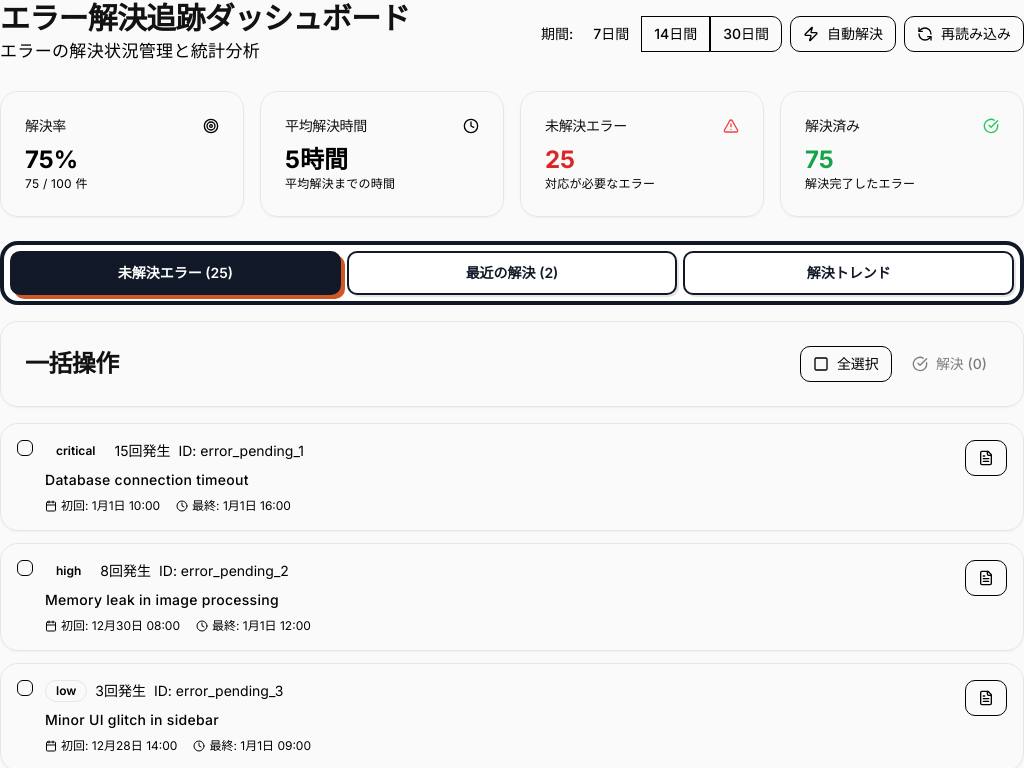
Scenario: ErrorResolutionDashboard › エラー解決機能テスト › エラー解決ダイアログが開くこと
This screenshot has width=1024, height=768.
Step 1. Click the button labelled "全選択" → (846, 364), box [800,346,892,382]
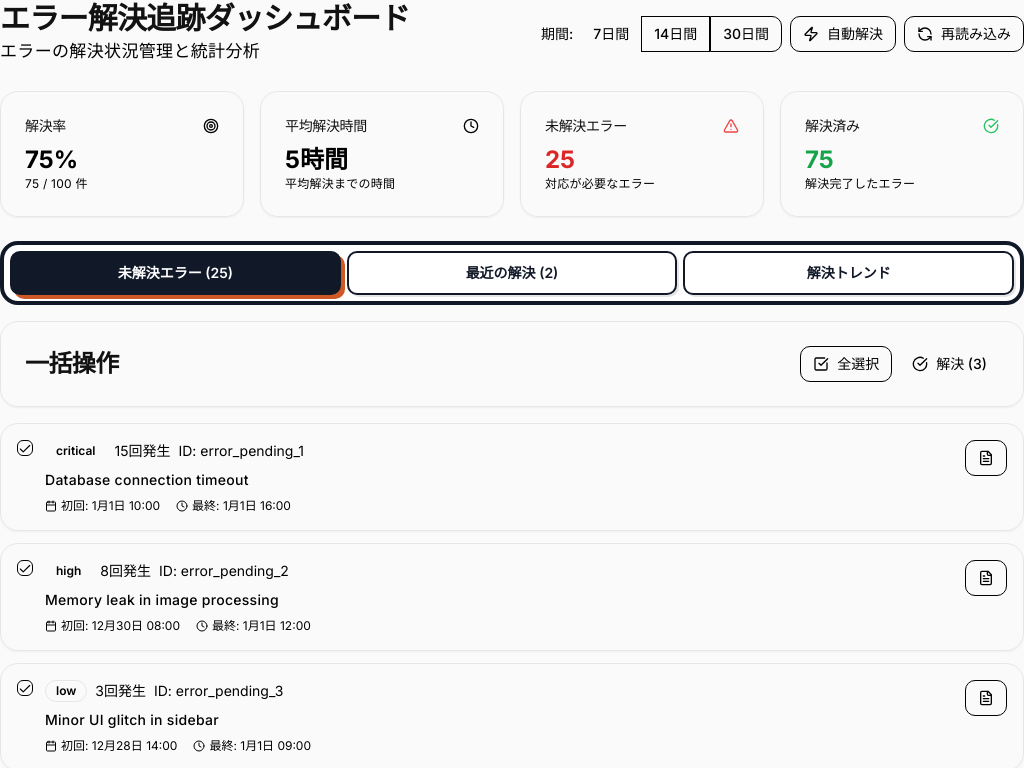
// 解決ボタンをクリック
Step 2. Click the button "解決 (3)" → (950, 364), box [900,346,999,382]
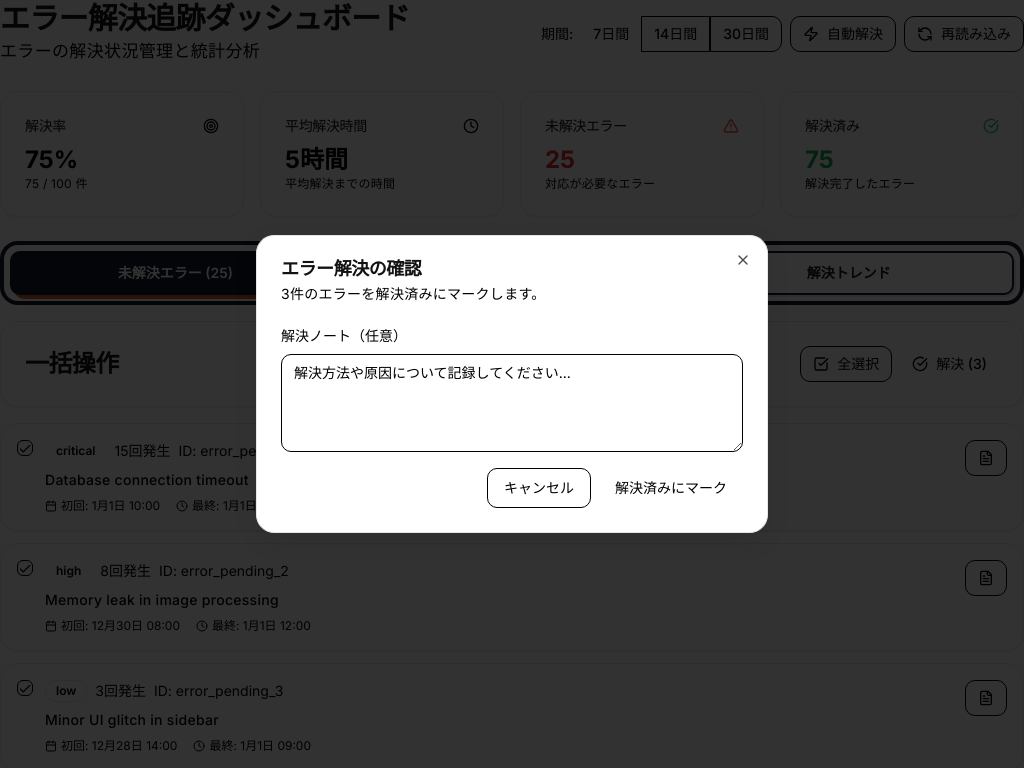
Result: the heading "エラー解決の確認" is shown at [281,258,421,279]
Result: the text "3件のエラーを解決済みにマークします。" is shown at [281,285,546,302]
